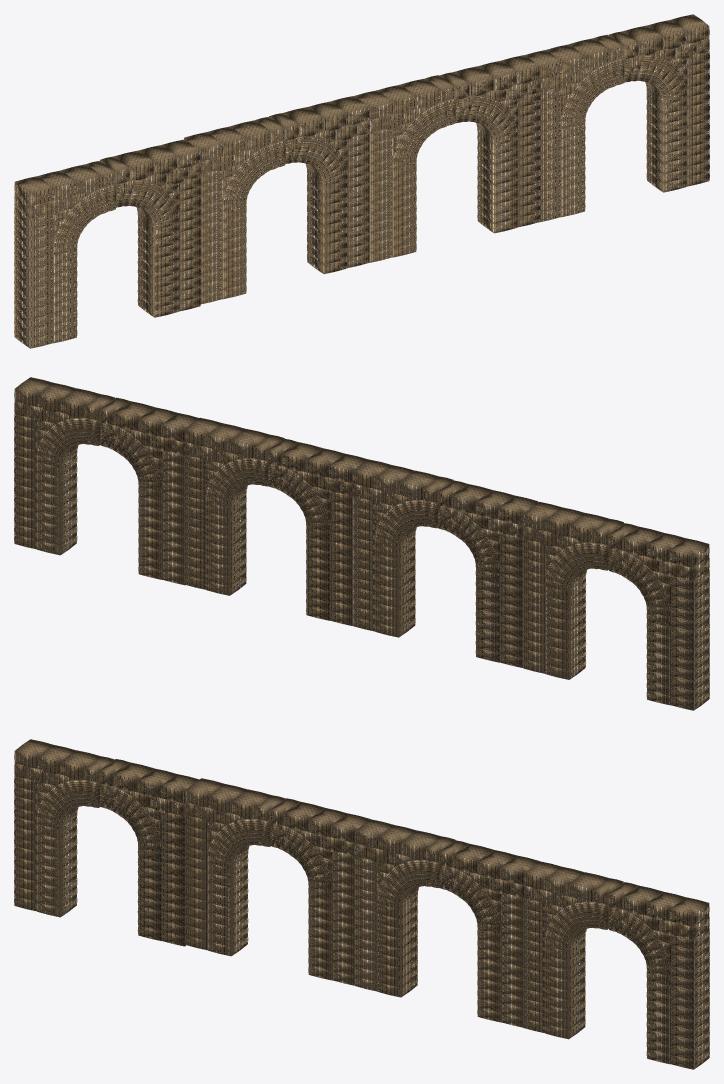
The model's file is mojarch.obj.
The picture shows the model from 3 angles, top to bottom: view 1: azimuth 30°, elevation 25°; view 2: azimuth 150°, elevation 25°; view 3: azimuth 330°, elevation 25°; orthographic projection.
Parts seen in each view (by area): view 1: arch-half.001, arch-half_1.002, arch-half_1.003, arch-half_1.001, arch-half_1, arch-half.003, arch-half.002, arch-half; view 2: arch-half.001, arch-half_1, arch-half_1.003, arch-half_1.001, arch-half_1.002, arch-half.002, arch-half, arch-half.003; view 3: arch-half_1.003, arch-half.001, arch-half.003, arch-half.002, arch-half, arch-half_1.001, arch-half_1.002, arch-half_1.
Boxes of the visible parts, <box> form: arch-half.001: <box>14,161,116,348</box>; arch-half_1.002: <box>440,55,540,233</box>; arch-half_1.003: <box>608,14,709,192</box>; arch-half_1.001: <box>100,139,201,317</box>; arch-half_1: <box>269,96,369,273</box>; arch-half.003: <box>354,75,455,262</box>; arch-half.002: <box>184,117,285,304</box>; arch-half: <box>524,34,624,222</box>; arch-half.001: <box>608,523,709,710</box>; arch-half_1: <box>352,459,453,637</box>; arch-half_1.003: <box>14,377,115,555</box>; arch-half_1.001: <box>523,502,623,679</box>; arch-half_1.002: <box>184,417,284,595</box>; arch-half.002: <box>437,480,538,667</box>; arch-half: <box>100,397,198,585</box>; arch-half.003: <box>267,438,368,625</box>; arch-half_1.003: <box>608,882,709,1069</box>; arch-half.001: <box>14,739,114,917</box>; arch-half.003: <box>354,819,455,997</box>; arch-half.002: <box>185,778,285,956</box>; arch-half: <box>523,861,623,1039</box>; arch-half_1.001: <box>99,759,199,946</box>; arch-half_1.002: <box>439,840,539,1027</box>; arch-half_1: <box>270,798,370,985</box>.
Bounding box in the file's own units: 31.8 × 7.08 × 1.56.
